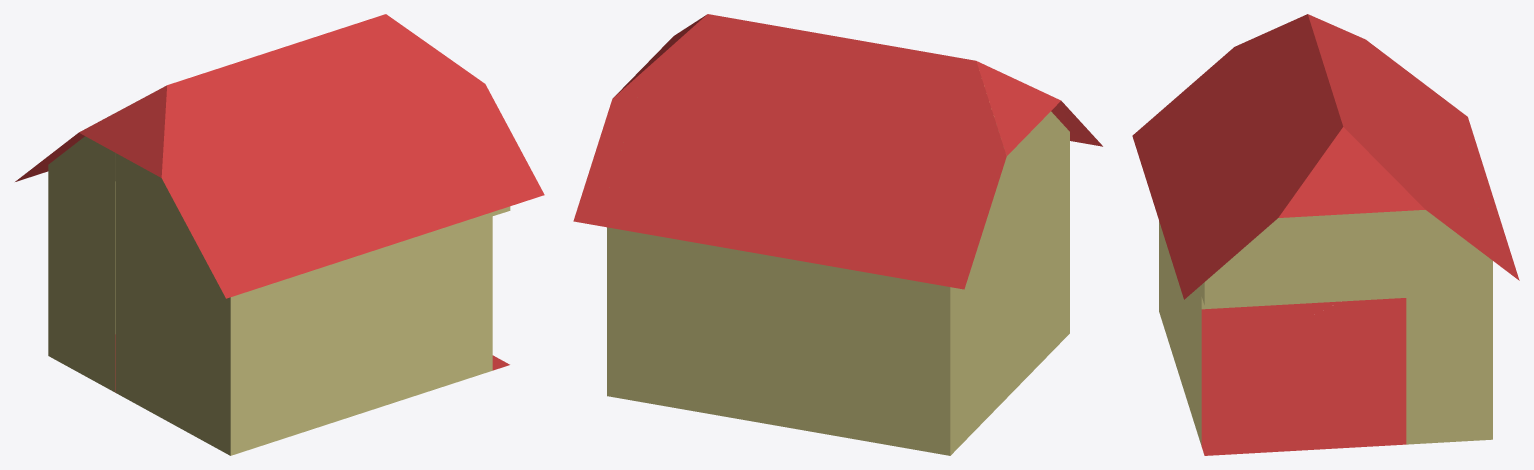
3 views of the same model, side by side, from view 1: azimuth 30°, elevation 25°; view 2: azimuth 150°, elevation 25°; view 3: azimuth 270°, elevation 25° (orthographic). The views are drawn at different scales.
Size of the model in its own units: 13.63 by 12.19 by 10.55.
